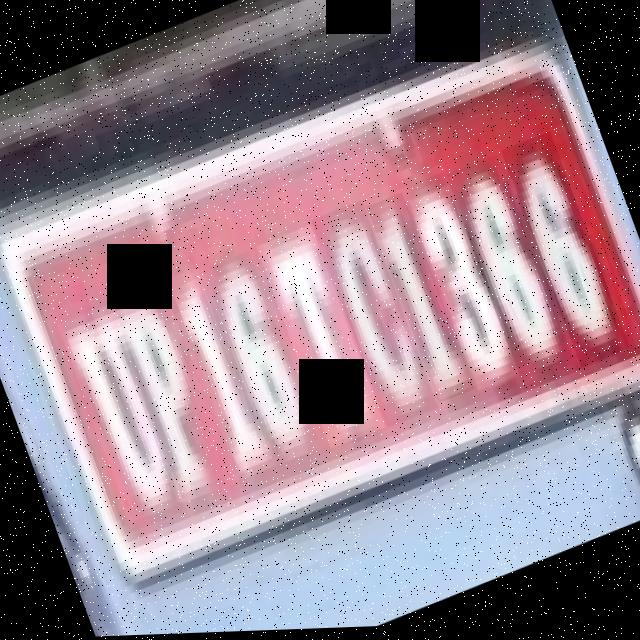1: (366, 193, 475, 409), (168, 266, 270, 477)
3: (408, 186, 520, 396)
6: (502, 133, 630, 374), (447, 156, 572, 385), (203, 251, 319, 463)
C: (312, 200, 438, 433)
P: (114, 288, 226, 504)
T: (256, 225, 386, 453)
U: (58, 301, 186, 526)
